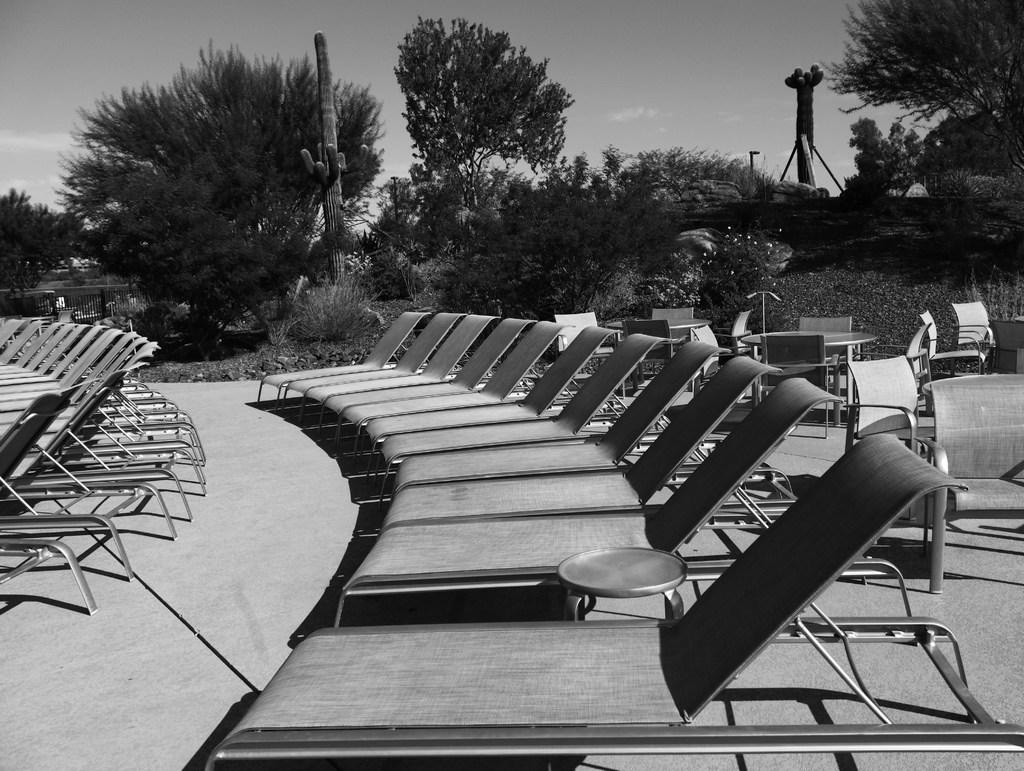Tree: (49, 41, 396, 363), (428, 146, 700, 315), (390, 16, 581, 245), (811, 0, 1023, 197), (376, 167, 542, 259), (617, 144, 827, 213), (0, 184, 90, 304), (924, 105, 1023, 202), (836, 116, 935, 196)
